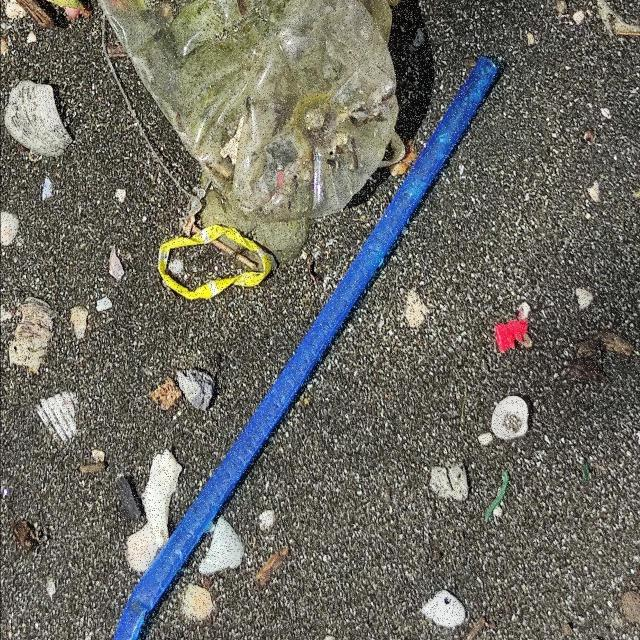plastic_waste: (114, 52, 499, 640)
